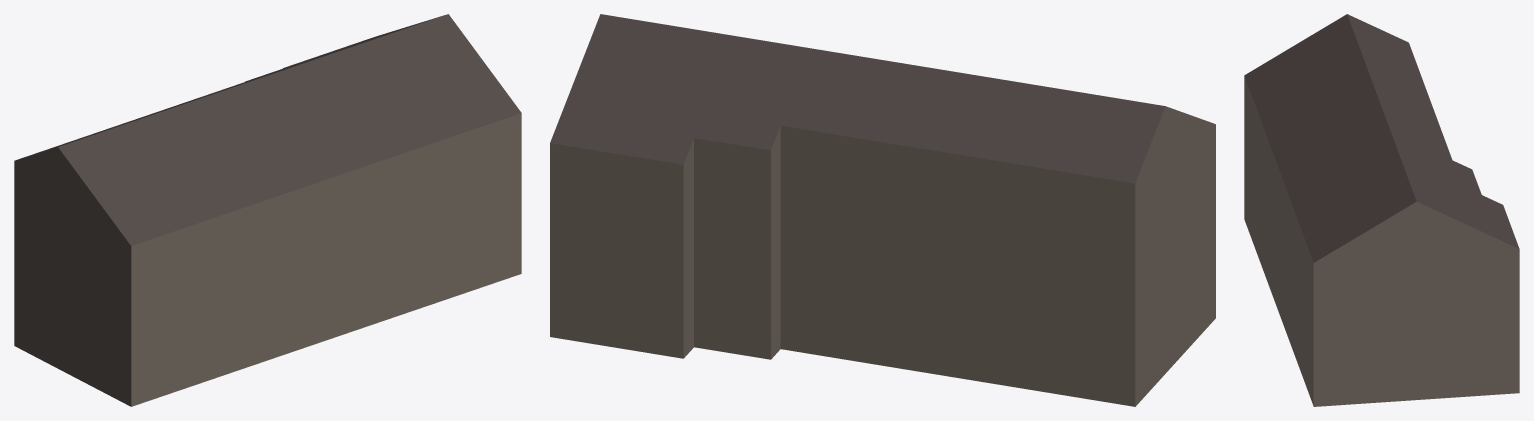
3 views of the same model, side by side, from view 1: azimuth 30°, elevation 25°; view 2: azimuth 150°, elevation 25°; view 3: azimuth 270°, elevation 25° (orthographic). The views are drawn at different scales.
Visible parts, largest first — view 1: HP-w299011348; view 2: HP-w299011348; view 3: HP-w299011348.
Boxes of the visible parts, bbox=[...] form: HP-w299011348: bbox=[14, 14, 521, 406]; HP-w299011348: bbox=[550, 14, 1215, 406]; HP-w299011348: bbox=[1244, 14, 1519, 406].
Bounding box in the file's own units: 26.63 × 12.41 × 15.6.
